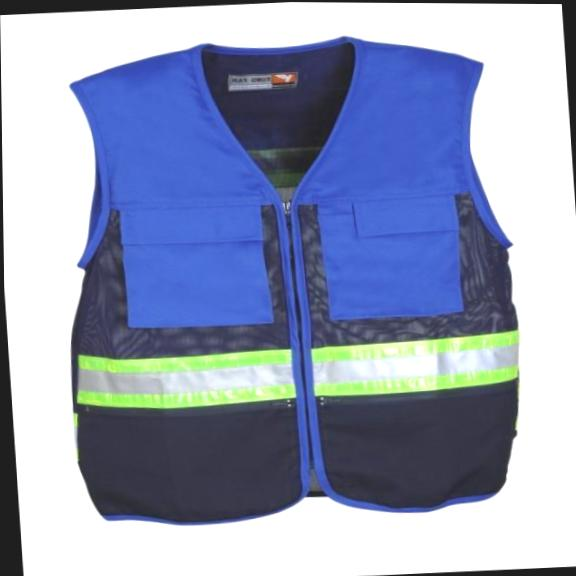safety_vest: (47, 24, 528, 530)
